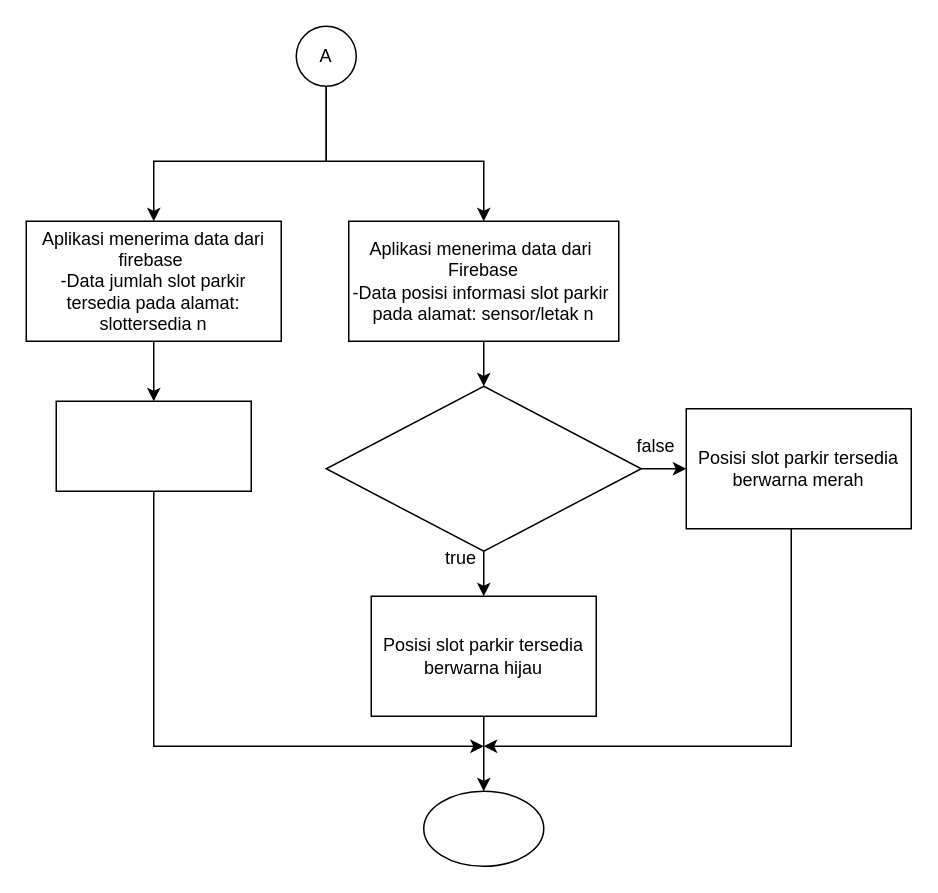
This 938x893 diagram has some shape labels left out. Each missing label, with the centre of its shape:
Data letak n = true atau false?: (x=483, y=468)
Menampilkan angka jumlah slot parkir tersedia: (x=153, y=445)
Selesai: (x=483, y=828)
